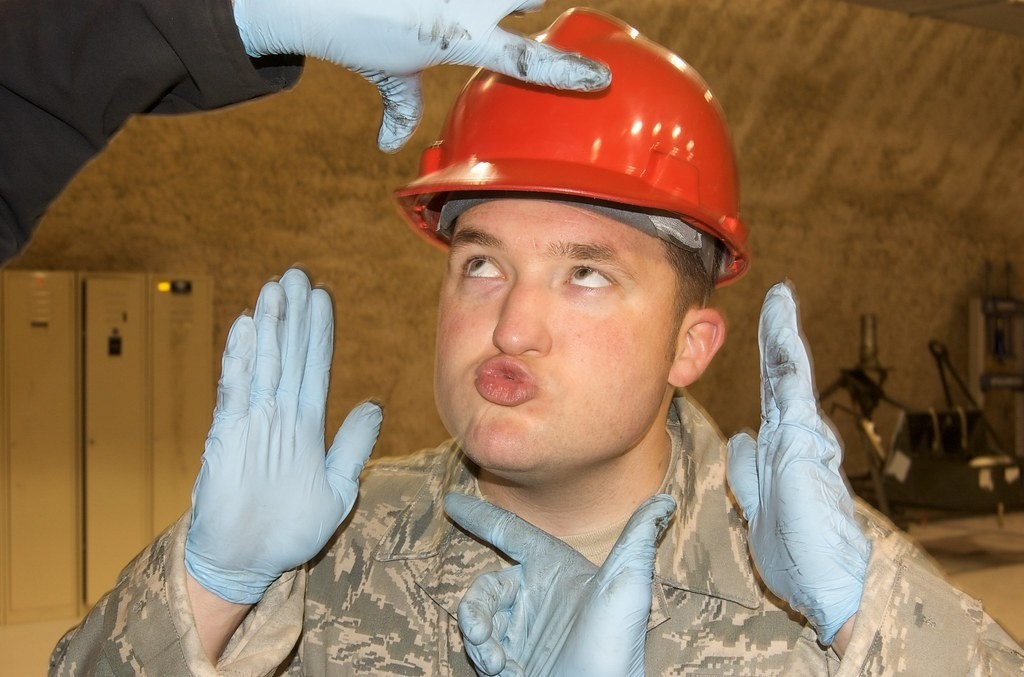face_no_mask: (431, 114, 696, 482)
